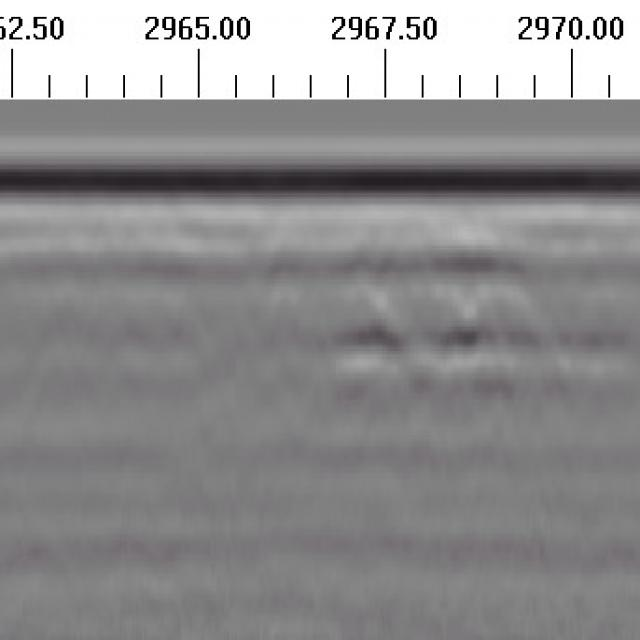loose: (332, 264, 567, 388)
